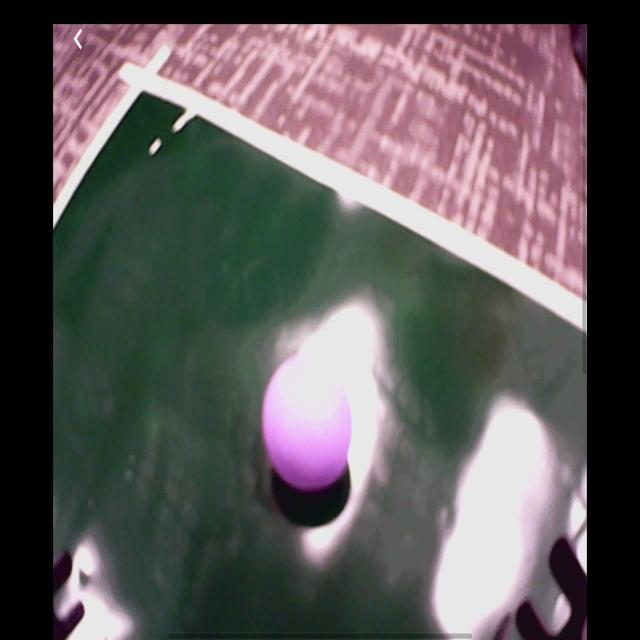ball: (264, 356, 354, 500)
